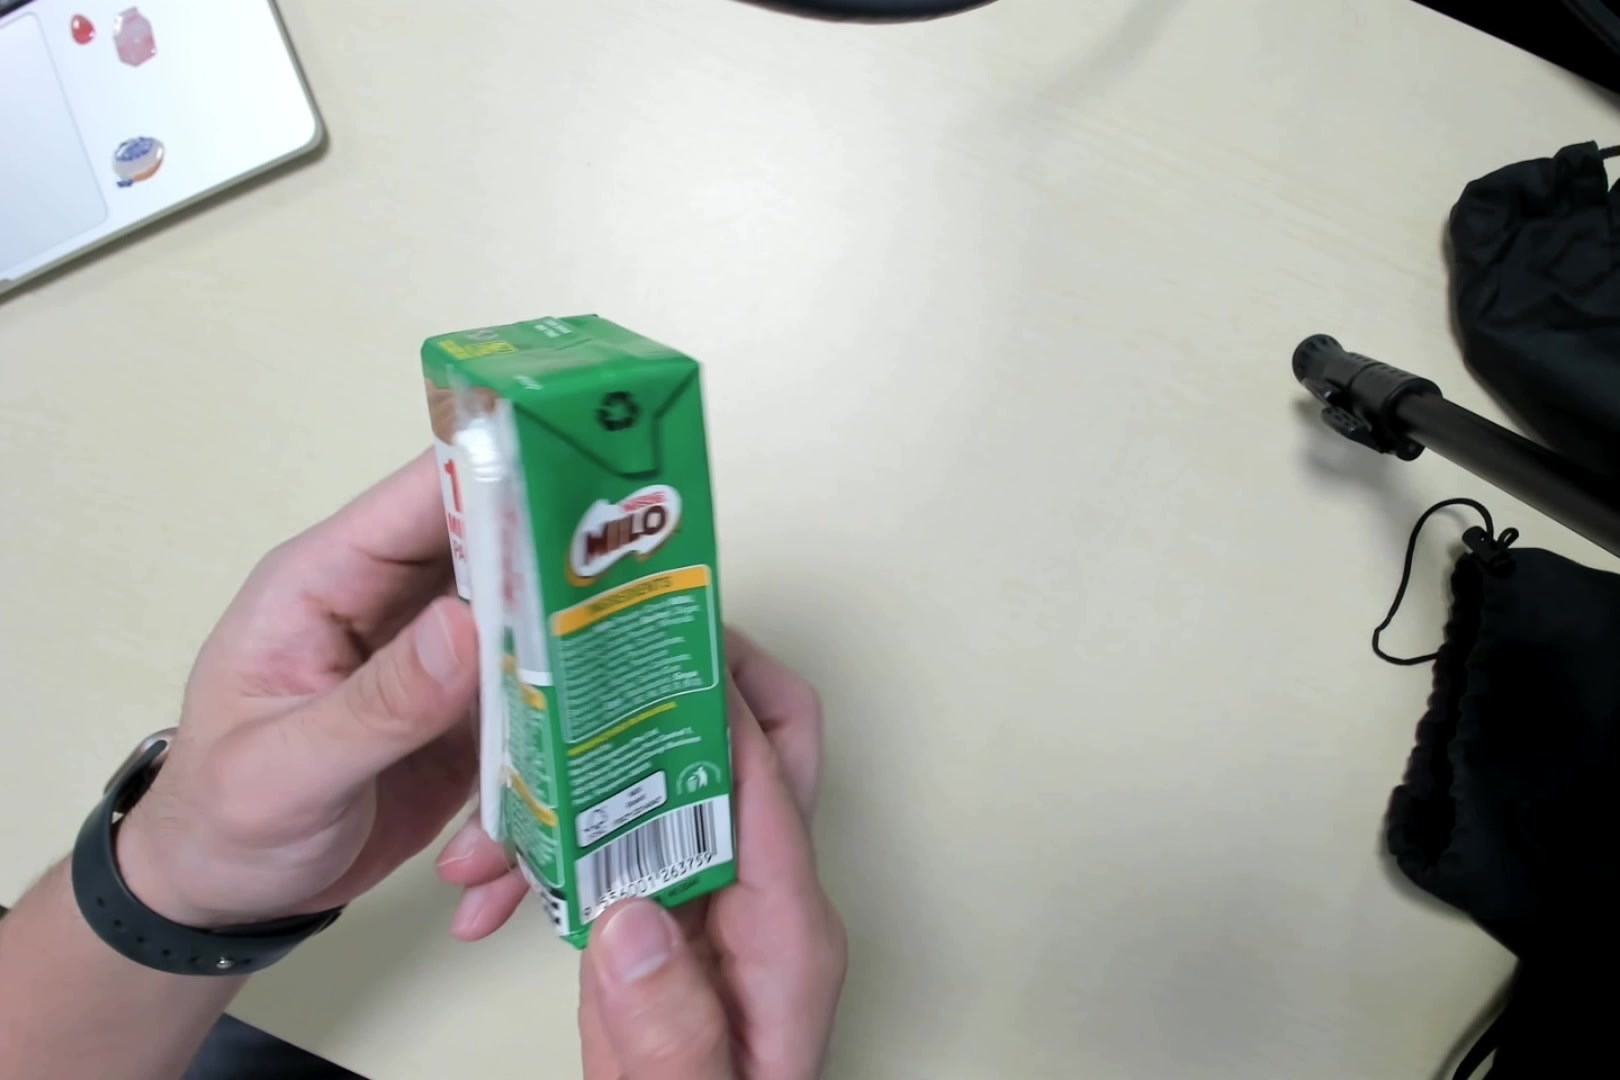SoftDrinksOtherReadyToDrink_100-199g_NonHalal_NonHealthy: (421, 307, 736, 931)
